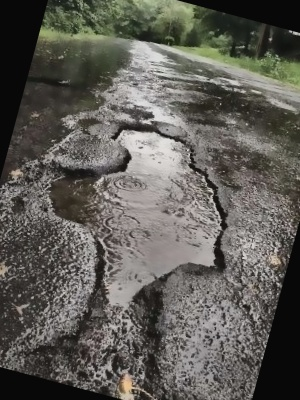pothole: (23, 101, 260, 329)
